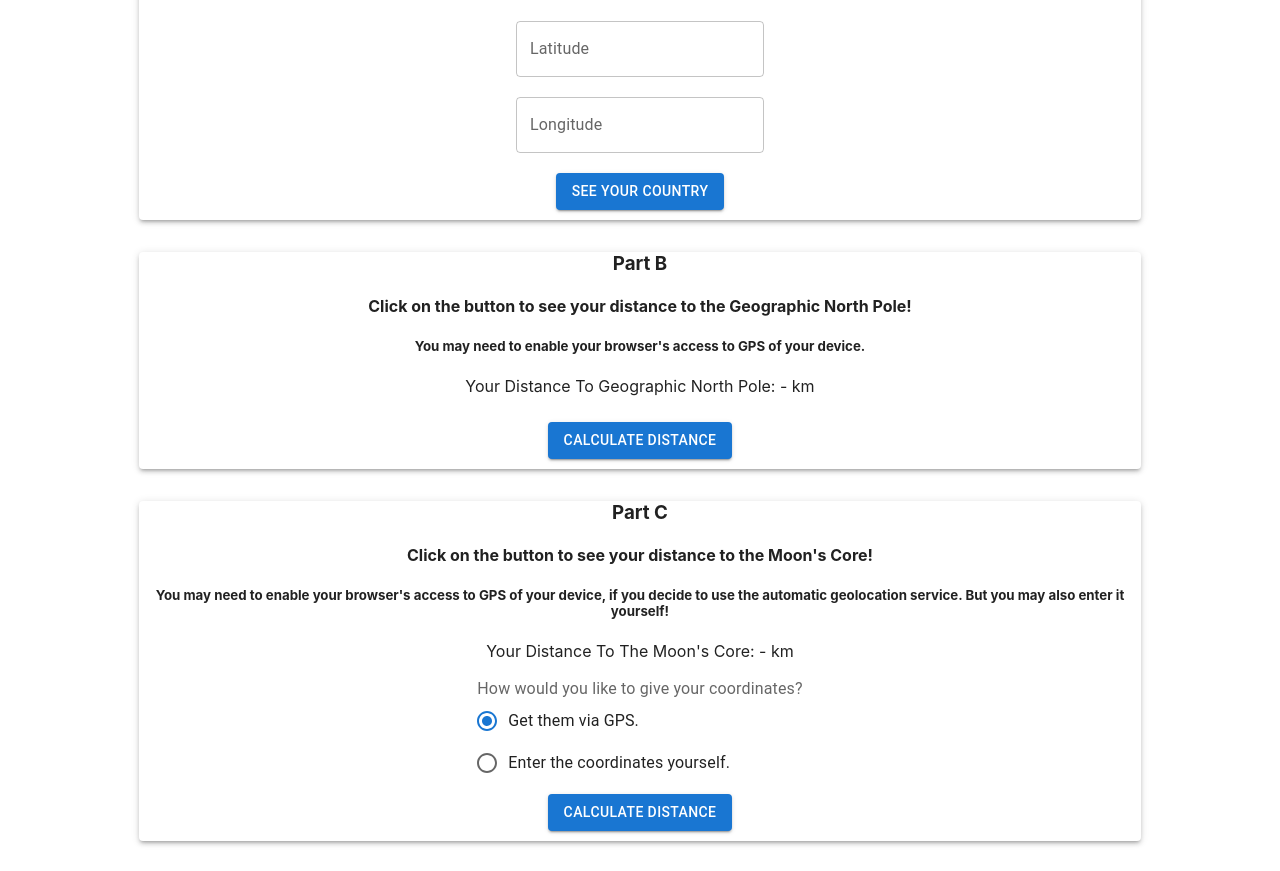
it: Checking for manual input to part C (like part A): › do not accept inputs including letter or symbols (both)
(page scrolled)
Click the radio button labelled "Enter the coordinates yourself." at (603, 763), box [475,751,730,775]
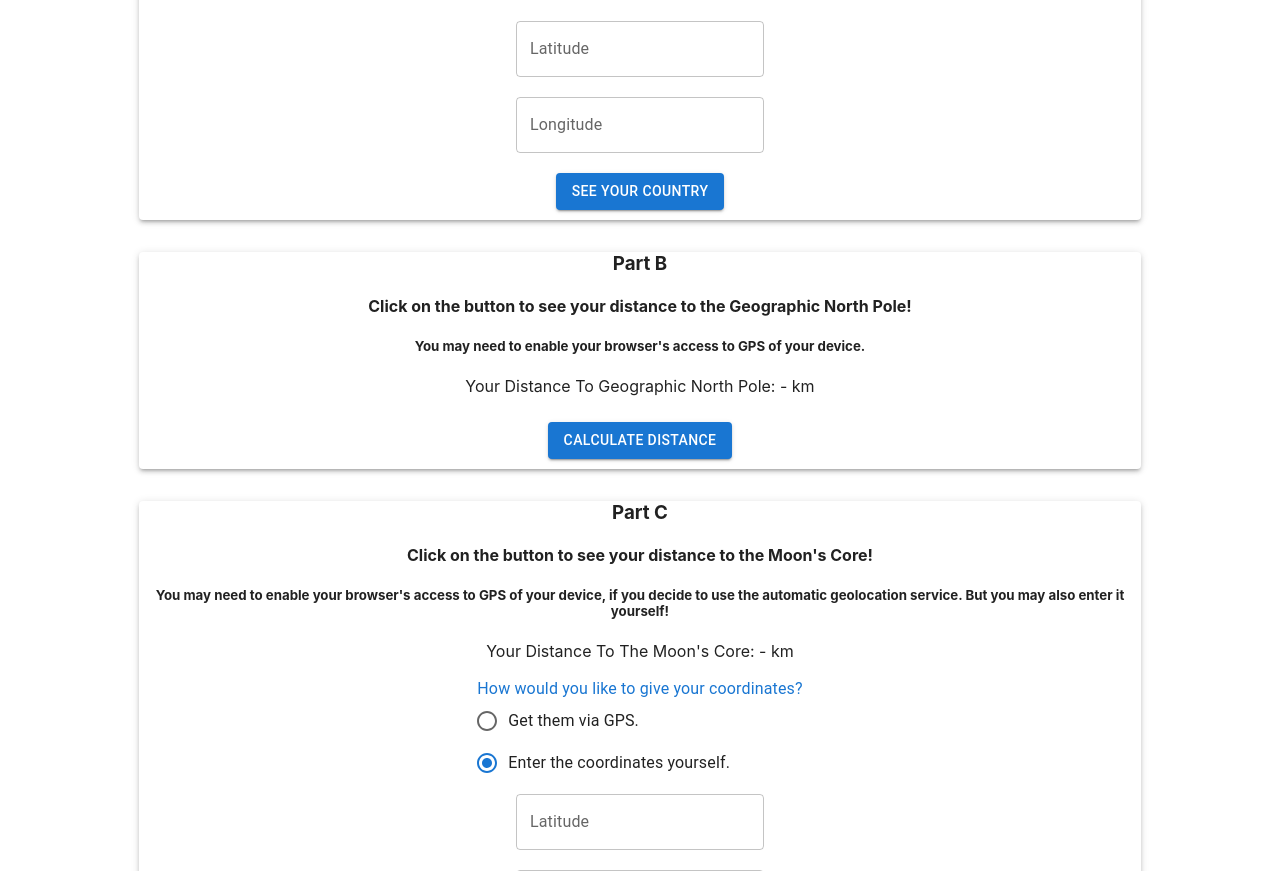
Now the radio button labelled "Enter the coordinates yourself." is checked, box [475,751,730,775]
Type "12Ab&" into the field with test id "part-c-field-1" at (640, 822), box [516,794,764,850]
(page scrolled)
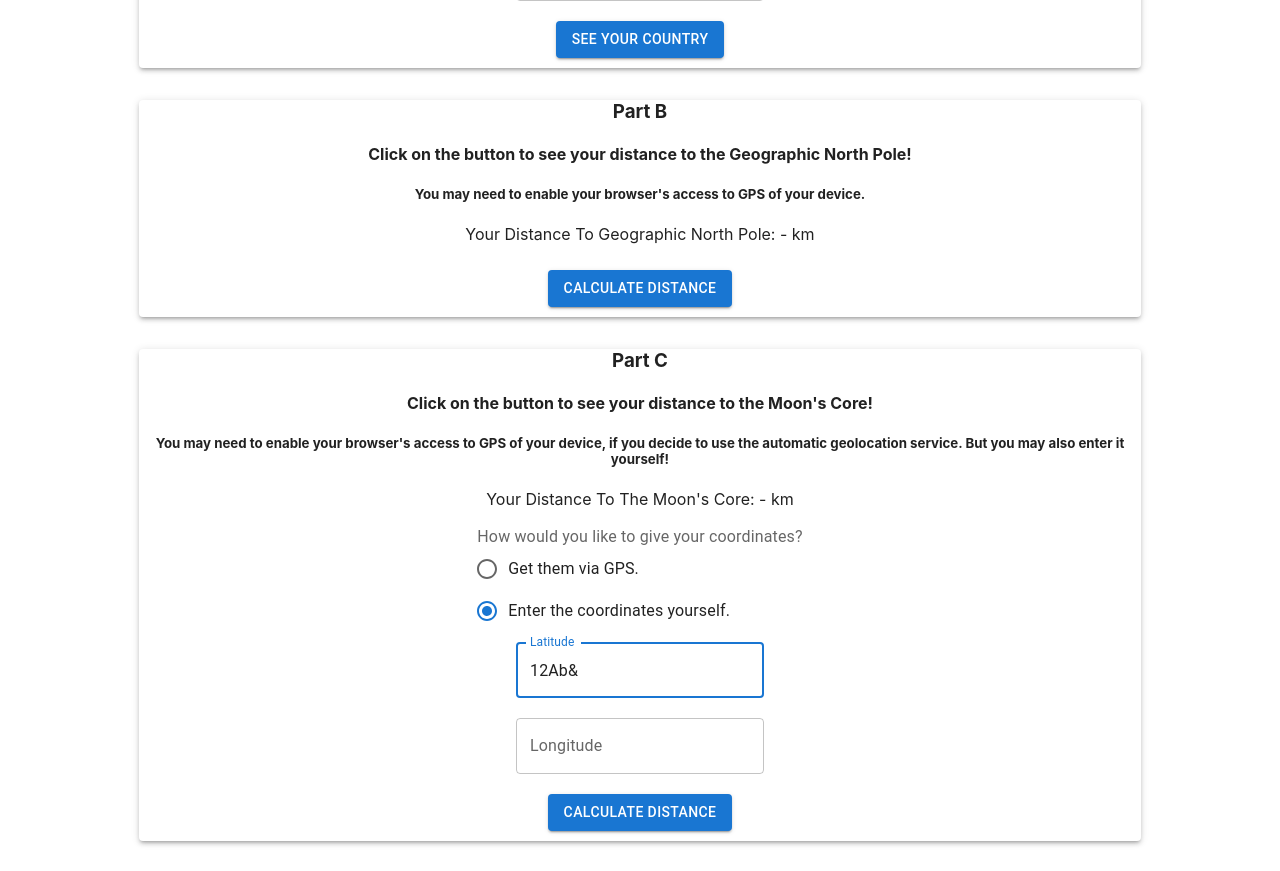
Type "12Ab&" into the field with test id "part-c-field-2" at (640, 746), box [516,718,764,774]
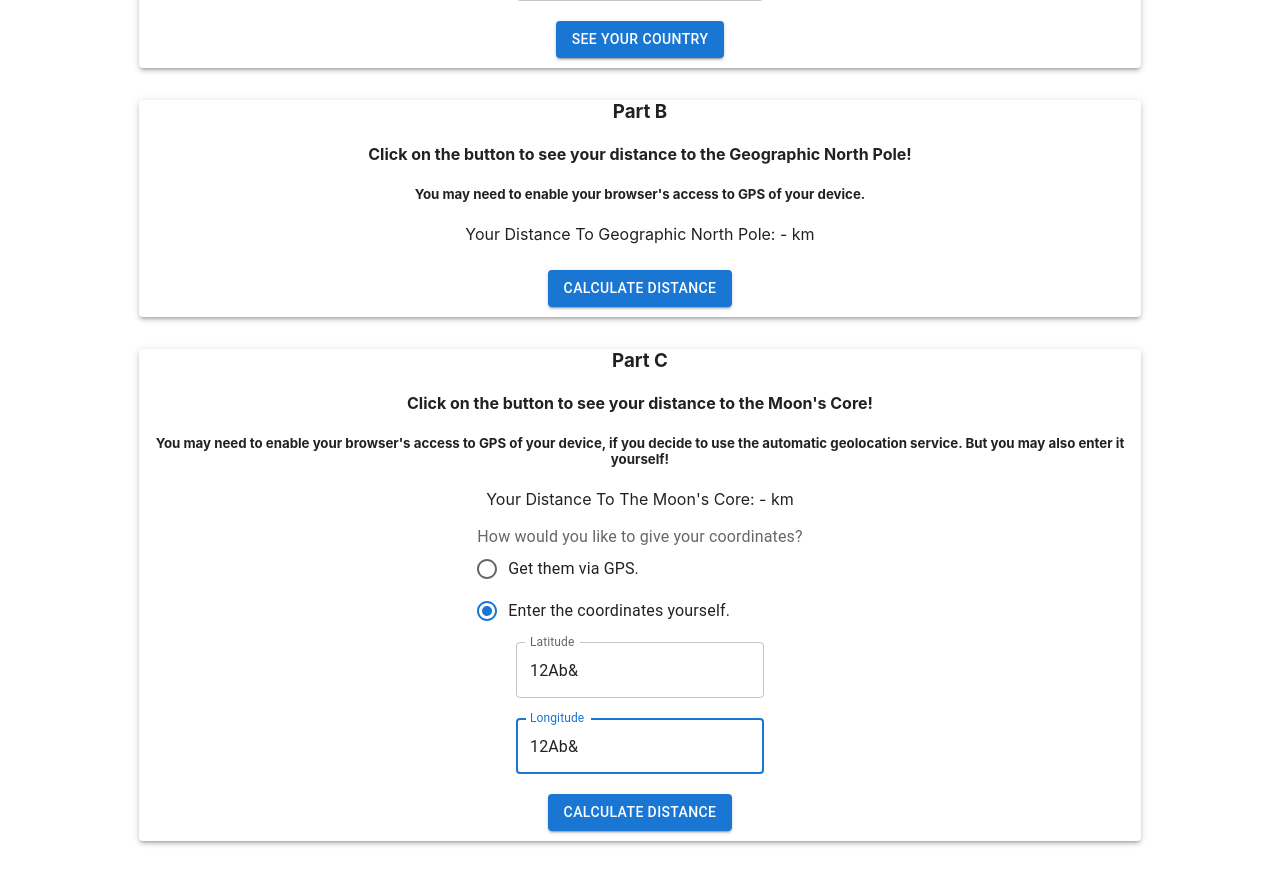
Click the button with test id "part-c-button" at (640, 813), box [548,794,732,831]
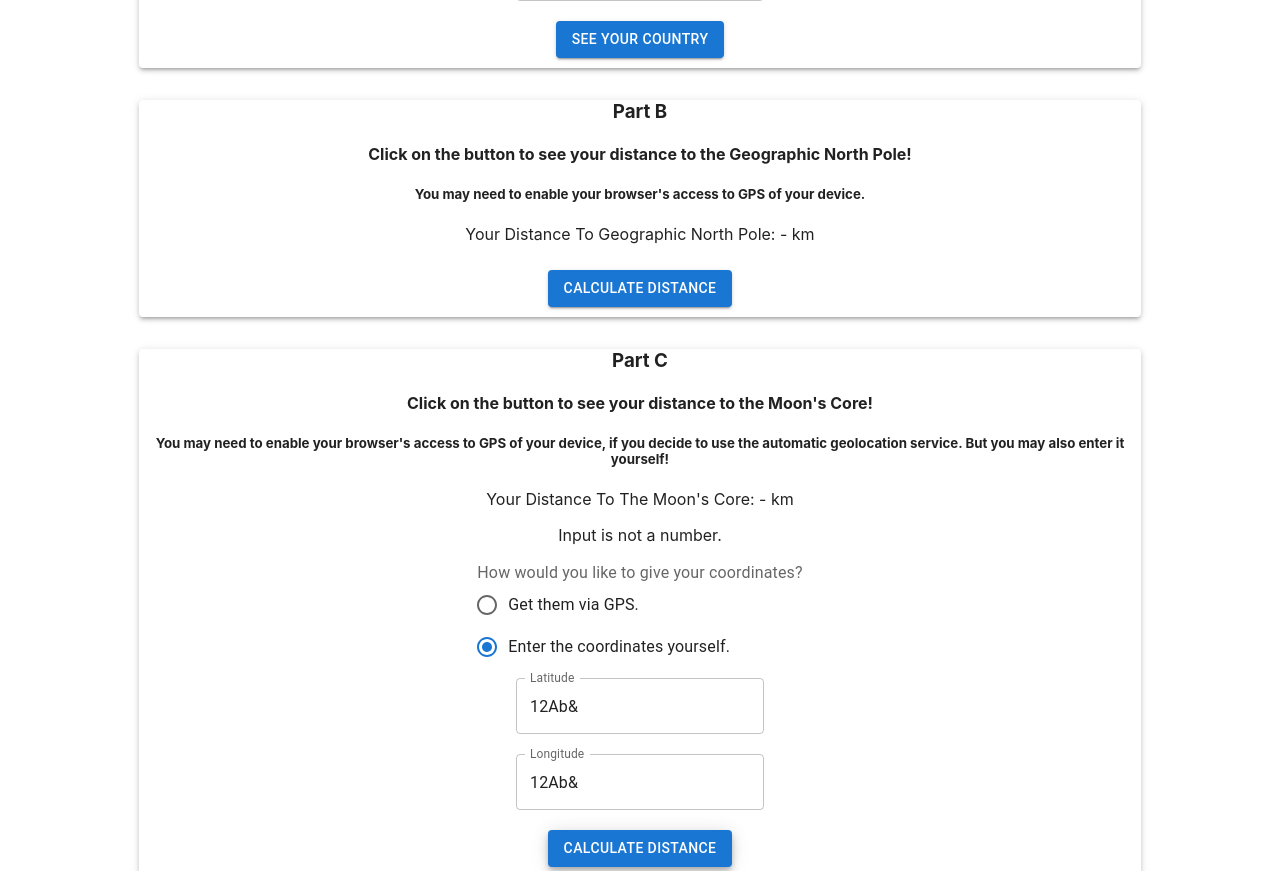
Expected: the text with test id "part-c-paragraph" shows "-", [759,489,771,509]
Now the text with test id "part-c-error" reads "Input is not a number.", box [558,525,722,545]
